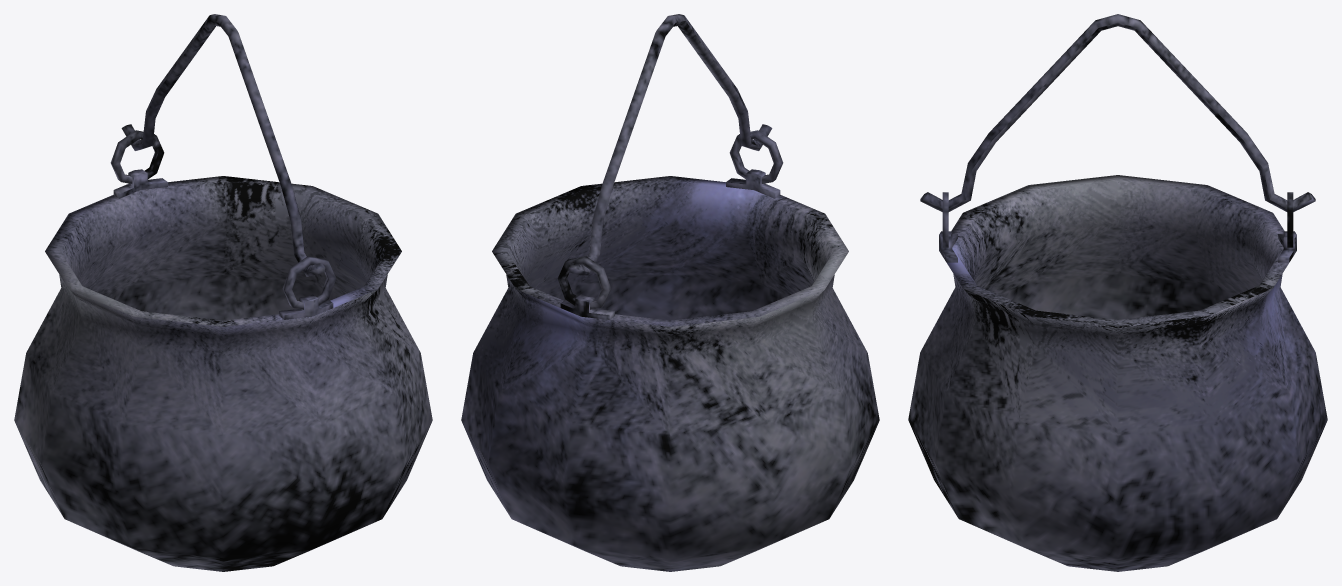
The model's file is Container01.fbx.
3 views of the same model, side by side, from view 1: azimuth 30°, elevation 25°; view 2: azimuth 150°, elevation 25°; view 3: azimuth 270°, elevation 25° (orthographic).
Parts seen in each view (by area): view 1: Container01_LOD0; view 2: Container01_LOD0; view 3: Container01_LOD0.
Part boxes in pixels (x1,y1,x2,y2): Container01_LOD0: (14,14,432,571); Container01_LOD0: (461,14,879,571); Container01_LOD0: (908,14,1327,571).
Size of what is drawn, in the model's own units: 34.46 by 47.76 by 34.46.
